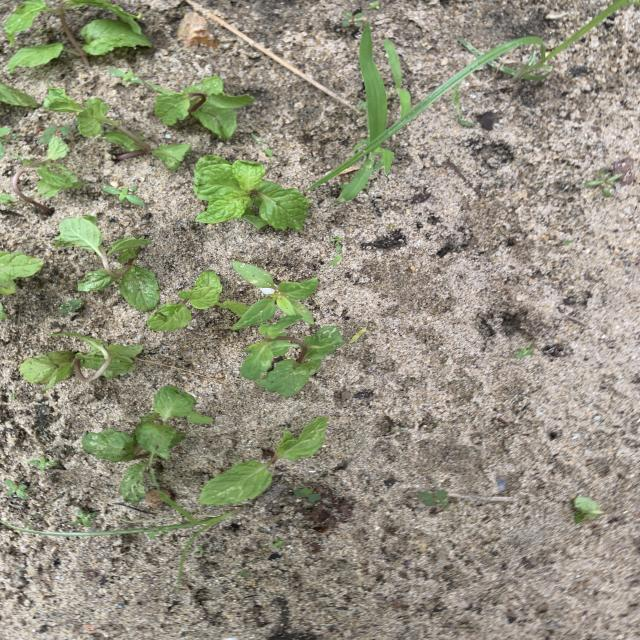crop: (83, 386, 211, 503), (200, 417, 327, 504), (6, 1, 151, 68), (56, 216, 159, 310), (193, 156, 311, 228), (241, 324, 344, 395), (20, 333, 143, 391), (223, 262, 317, 333), (1, 137, 83, 213), (153, 76, 252, 137), (149, 270, 226, 331), (44, 87, 118, 135), (103, 130, 189, 168), (1, 252, 42, 295)
weed: (312, 4, 627, 187), (176, 512, 231, 590), (585, 171, 621, 195), (103, 186, 143, 205), (40, 125, 70, 143), (110, 69, 142, 85), (253, 134, 272, 157), (419, 491, 448, 506), (72, 509, 95, 527), (294, 488, 319, 504), (6, 480, 27, 499), (30, 457, 56, 471), (0, 127, 11, 155), (342, 12, 362, 27), (59, 299, 81, 312), (515, 342, 534, 357), (350, 328, 365, 342), (329, 236, 342, 251), (329, 255, 341, 265), (239, 569, 251, 577), (386, 224, 395, 229), (9, 394, 15, 399)
